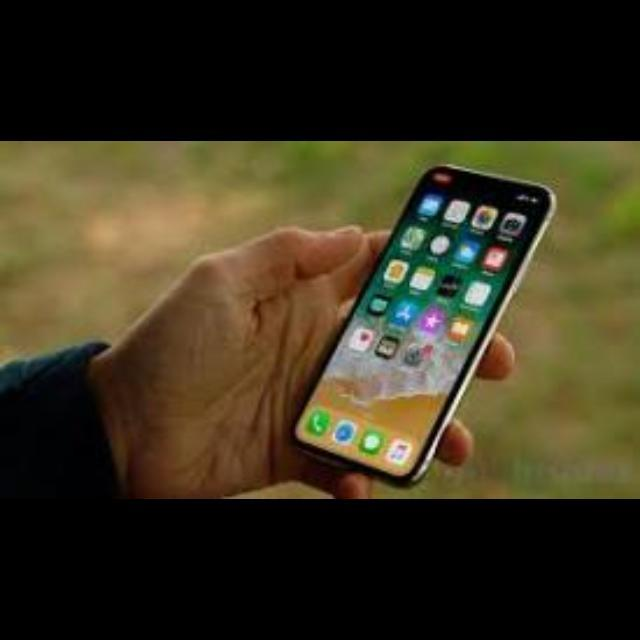Phone: (280, 167, 590, 488)
